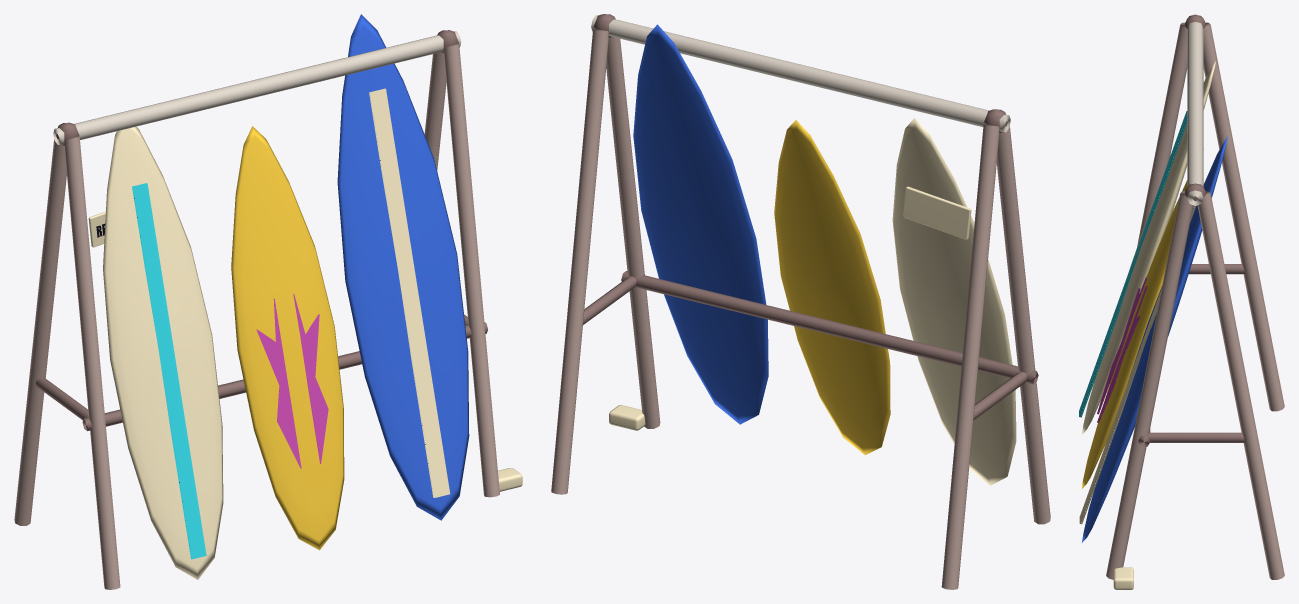
File: surfboard_rack.glb
3 renders of one model, left to right at view 1: azimuth 30°, elevation 25°; view 2: azimuth 150°, elevation 25°; view 3: azimuth 270°, elevation 25°, orthographic. The views are drawn at different scales.
Visible parts, largest first — view 1: Rack; view 2: Rack; view 3: Rack.
Part boxes in pixels (bbox=[...]): Rack: bbox=[14, 14, 522, 589]; Rack: bbox=[551, 14, 1050, 589]; Rack: bbox=[1079, 14, 1284, 589].
Bounding box in the file's own units: 1.74 × 1.78 × 0.8044.
